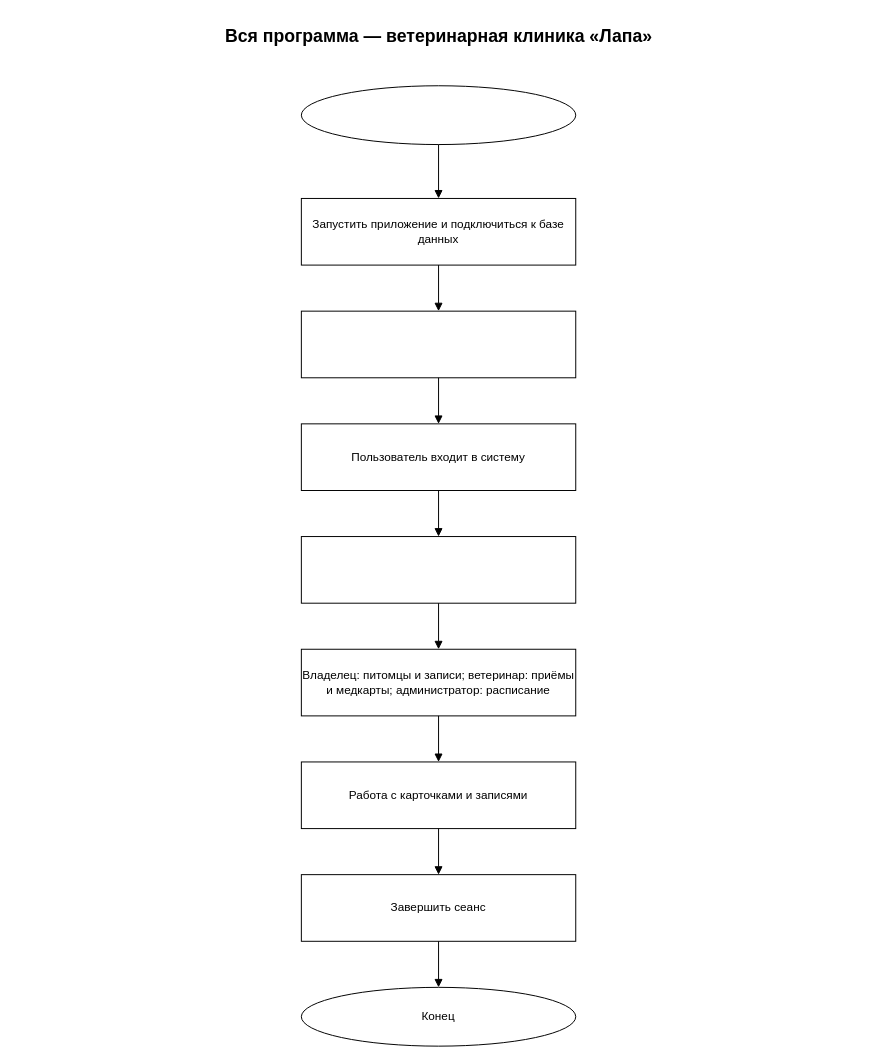
The diagram is 876 pixels wide and 1063 high, and some of its shapes have lost their labels. Each missing label, with the box of its shape:
Начало: (300, 85, 576, 145)
Определить роль пользователя: (300, 536, 576, 603)
Открыть окно входа или публичную страницу: (300, 310, 576, 378)
